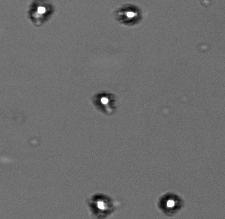Living Cell: (29, 1, 53, 22), (159, 192, 181, 214), (90, 194, 112, 215), (93, 93, 116, 113), (118, 5, 140, 24)
